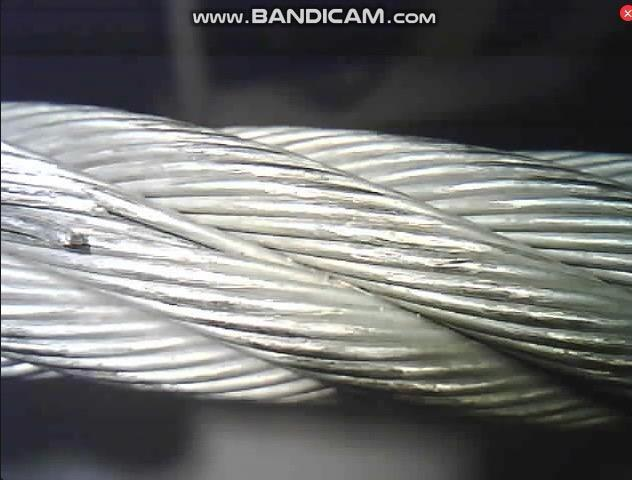break: (57, 180, 114, 258)
